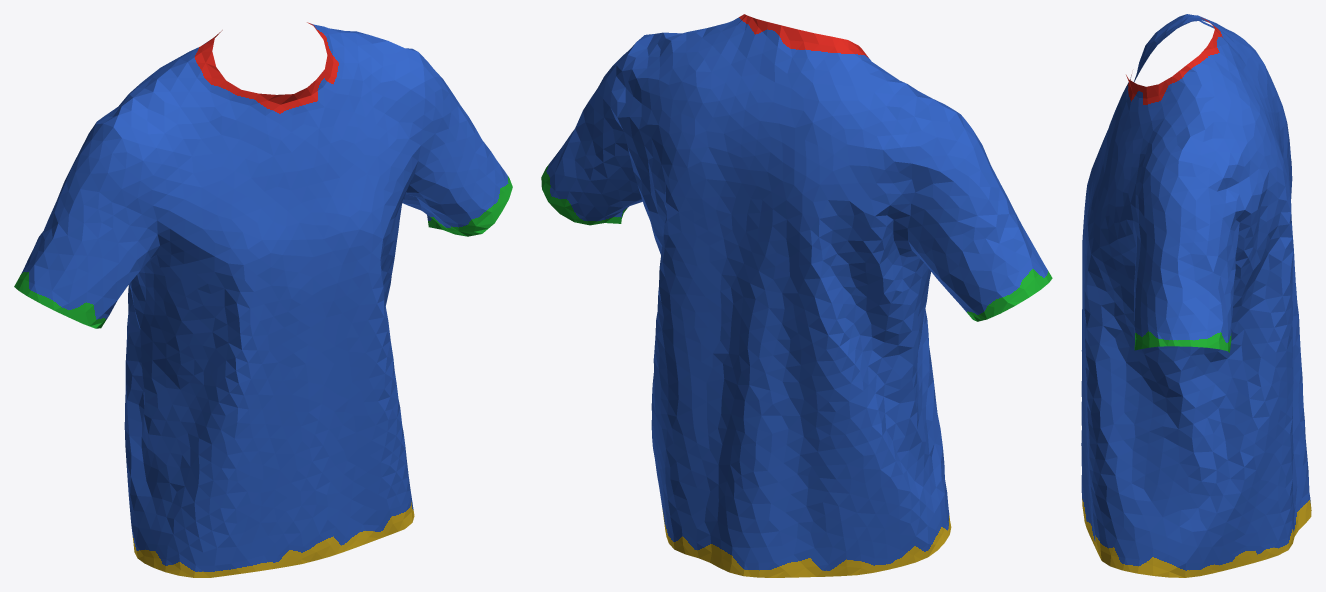
File: unisex_shirt.glb
The picture shows the model from 3 angles, left to right: view 1: azimuth 30°, elevation 25°; view 2: azimuth 150°, elevation 25°; view 3: azimuth 270°, elevation 25°; orthographic projection. The views are drawn at different scales.
Parts seen in each view (by area): view 1: world; view 2: world; view 3: world.
Boxes of the visible parts, box(x1,y1,x2,y2) form: world: box(14, 22, 512, 577); world: box(541, 14, 1052, 577); world: box(1081, 14, 1311, 577).
Size of the model in its own units: 0.6512 by 0.6458 by 0.2749.
1 material, 1 textured.
